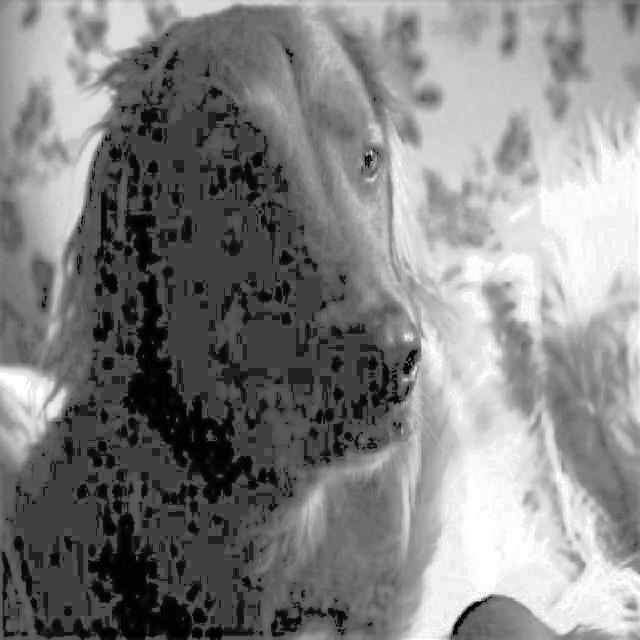Dog: (72, 0, 466, 640)
